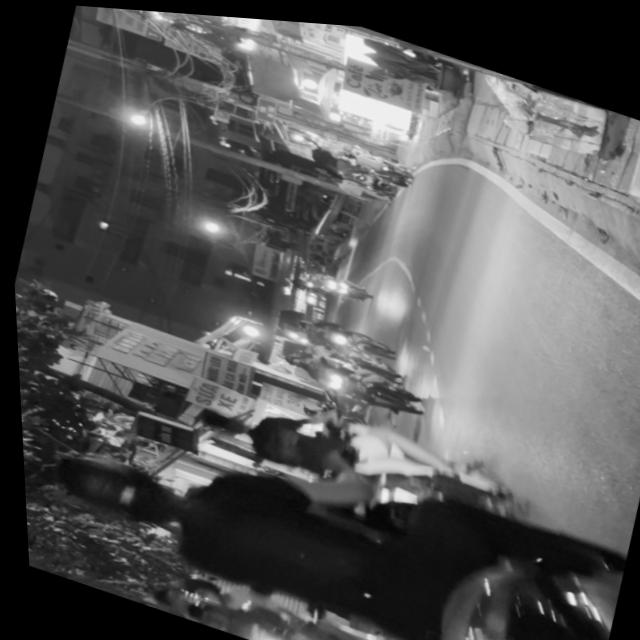helmet: (40, 437, 183, 538)
licenseplate: (17, 349, 630, 640), (167, 356, 535, 560)
motorcyclist: (188, 398, 252, 445)
